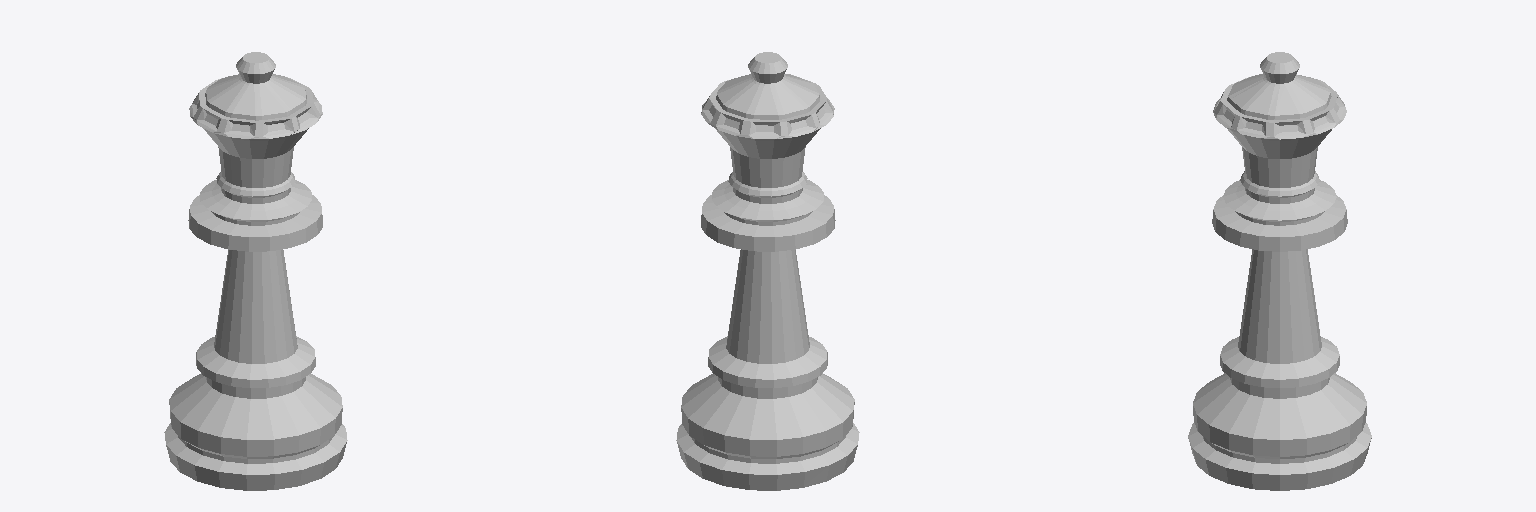
The model's file is blackQueen.obj.
3 views of the same model, side by side, from view 1: azimuth 30°, elevation 25°; view 2: azimuth 150°, elevation 25°; view 3: azimuth 270°, elevation 25° (orthographic).
Visible parts, largest first — view 1: pCylinder2; view 2: pCylinder2; view 3: pCylinder2.
Part boxes in pixels (x1,y1,x2,y2): pCylinder2: (164,52,347,490); pCylinder2: (676,52,859,490); pCylinder2: (1188,52,1371,490).
Size of the model in its own units: 0.9482 by 2.25 by 0.9482.